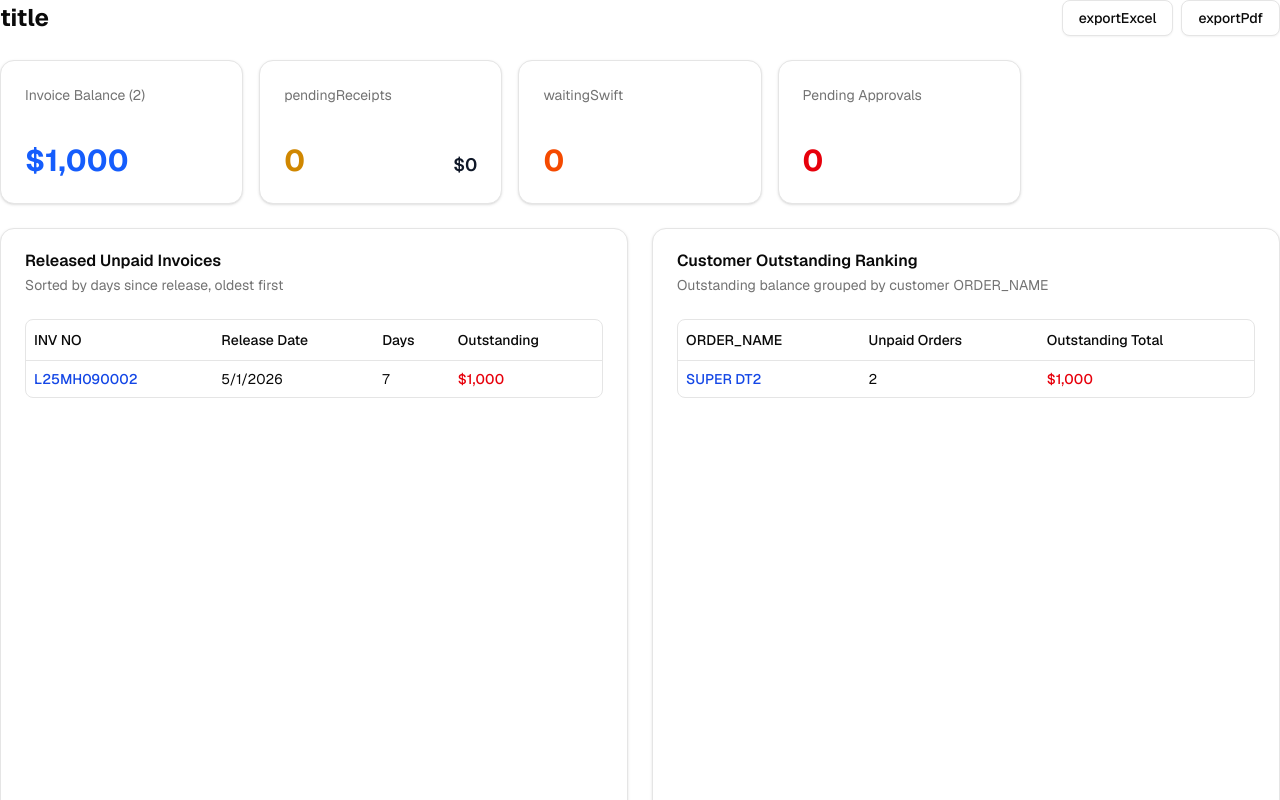
Test: Dashboard customer outstanding status dialog › shows customer outstanding rows split by transit and released status with subtotals
Expected: the table "ORDER_NAME" is shown, x1=678 y1=320 x2=1254 y2=396
Expected: the column heading "Status" is not shown
Click the button "SUPER DT2".
click(724, 378)  # box x1=686 y1=368 x2=761 y2=388
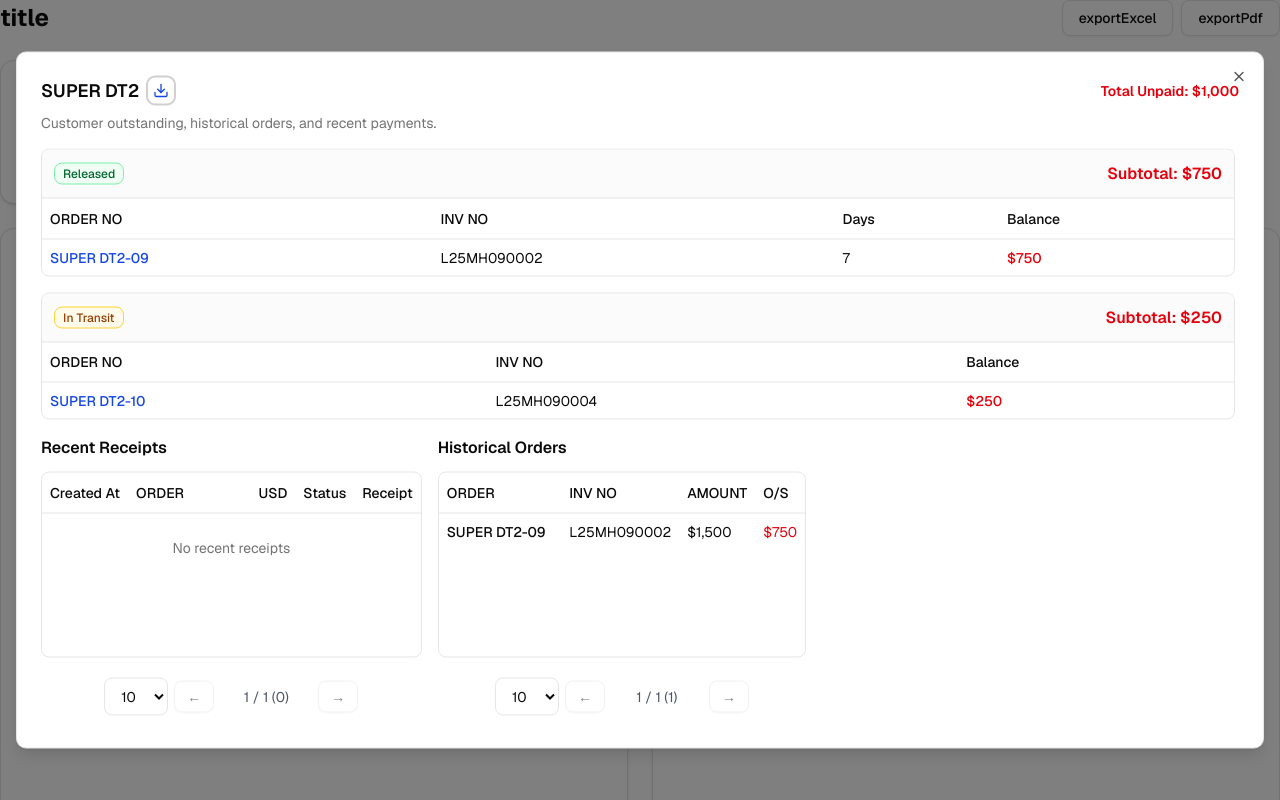
Expected: the dialog with test id "dashboard-customer-detail-dialog" is shown
Expected: the text "Total Unpaid: $1,000" is shown, x1=1101 y1=80 x2=1239 y2=100
Expected: the heading "Historical Orders" is shown, x1=438 y1=436 x2=567 y2=458
